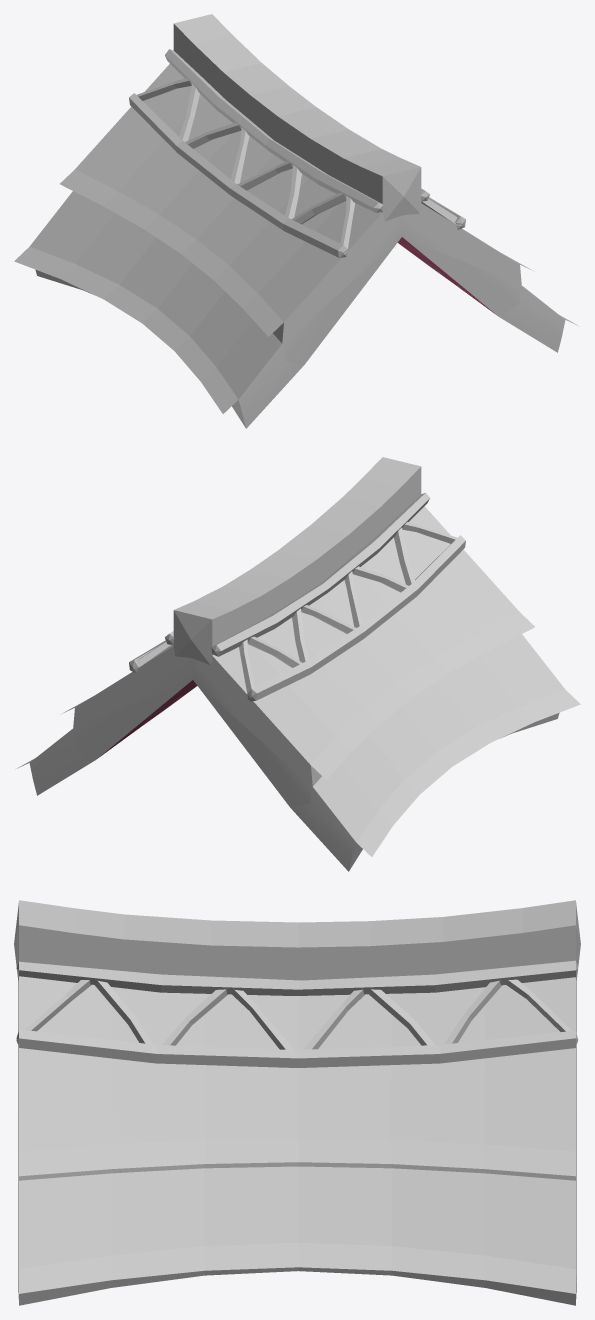
The model's file is SM_Bld_Roof_Thatch_Preset_01.fbx.
The picture shows the model from 3 angles, top to bottom: view 1: azimuth 30°, elevation 25°; view 2: azimuth 150°, elevation 25°; view 3: azimuth 270°, elevation 25°; orthographic projection. The views are drawn at different scales.
Parts seen in each view (by area): view 1: SM_Bld_Roof_Thatch_Preset_01; view 2: SM_Bld_Roof_Thatch_Preset_01; view 3: SM_Bld_Roof_Thatch_Preset_01.
Boxes of the visible parts, <box> form: SM_Bld_Roof_Thatch_Preset_01: <box>14,14,579,428</box>; SM_Bld_Roof_Thatch_Preset_01: <box>15,457,580,871</box>; SM_Bld_Roof_Thatch_Preset_01: <box>14,900,580,1305</box>.
Bounding box in the file's own units: 494 × 289 × 509.
